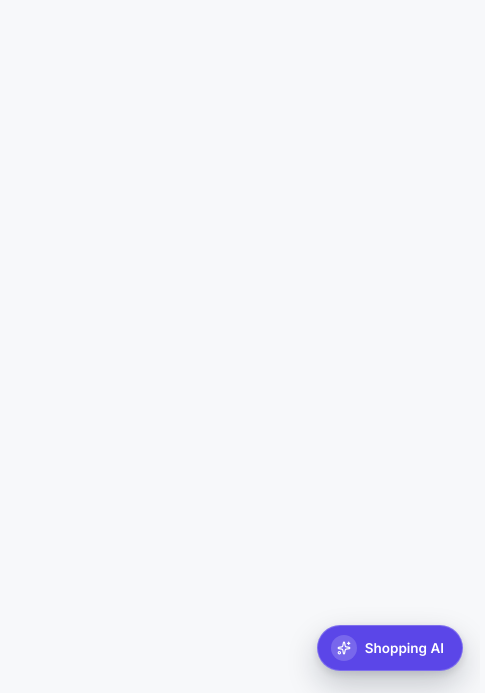
Test: Phase 4 — Storefront Shopping AI Widget, Auth Gate & Safe Checkout Prefill › renders quota meter, adds product recommendations to cart, and stores prefill CTA for signed-in customer
Later steps or results of the test are not shown.
Click the button with aria-label "Open Shopping AI": (390, 648) [317, 625, 463, 671]
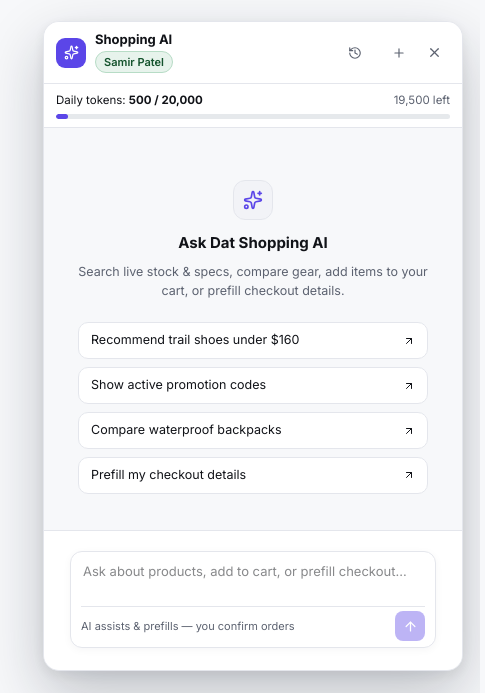
Now the element with test id "storefront-ai-quota-bar" is shown, box [44, 84, 462, 128]
In the text box named "Ask Shopping AI": (253, 580) [81, 560, 425, 600], type "Add Trail Blazer GTX and prefill checkout"
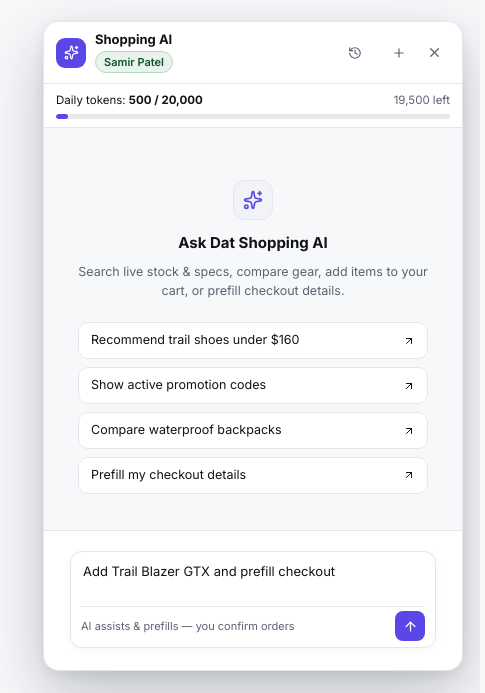
Click the button named "Send message": (410, 626) [395, 611, 425, 641]
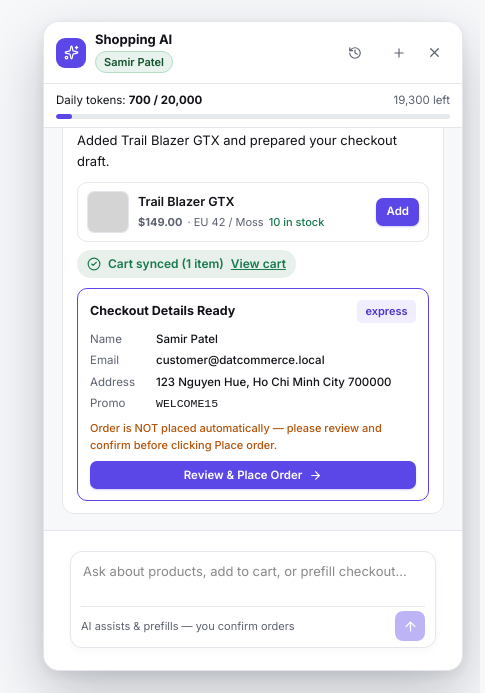
Now the element with test id "ai-checkout-prefill-card" is shown, box [77, 288, 429, 501]
